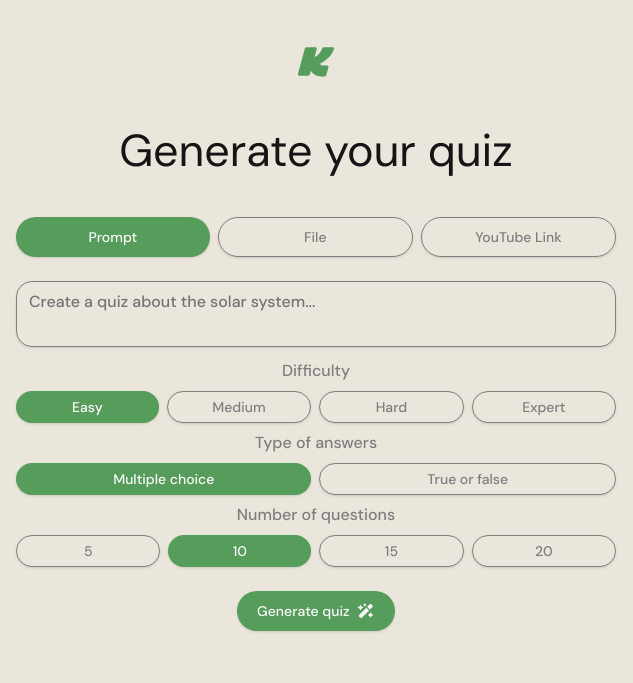
Test case: Interaction and states › should display error when generate quiz button is clicked without content
Click the button "Generate quiz" at point(316, 611), box [237,591,395,631]
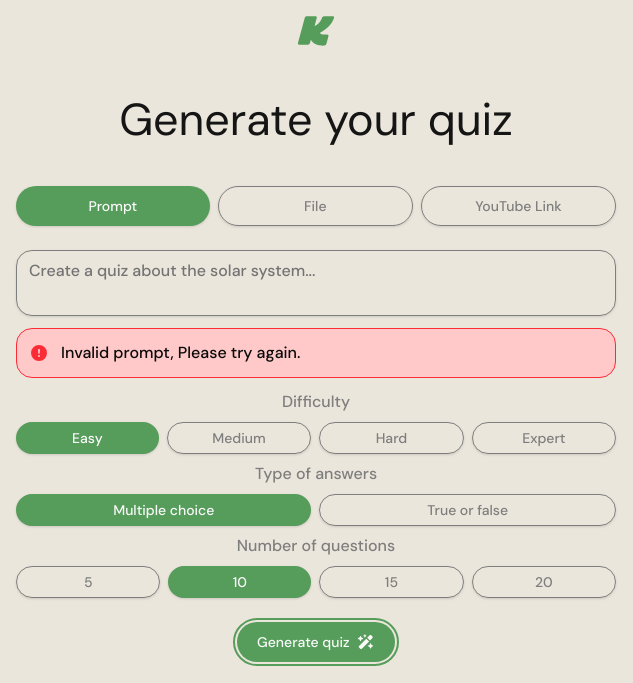
Now the message "Invalid prompt, Please try again." is shown, box [16,328,616,378]
